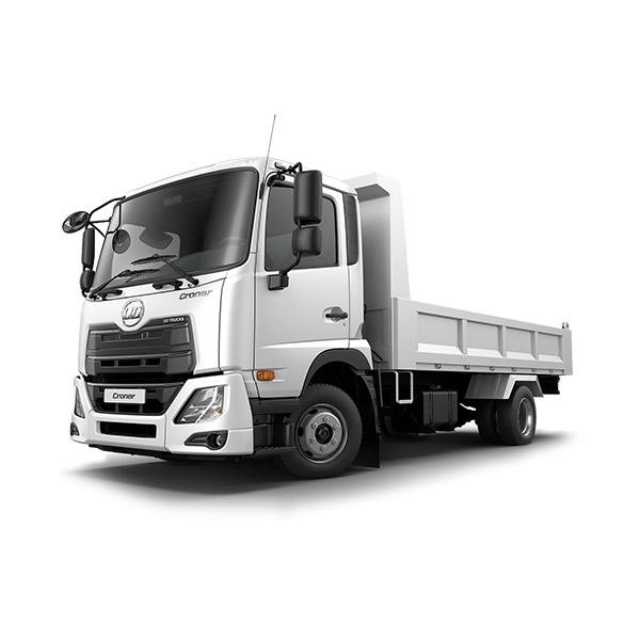Truck: (62, 156, 572, 481)
